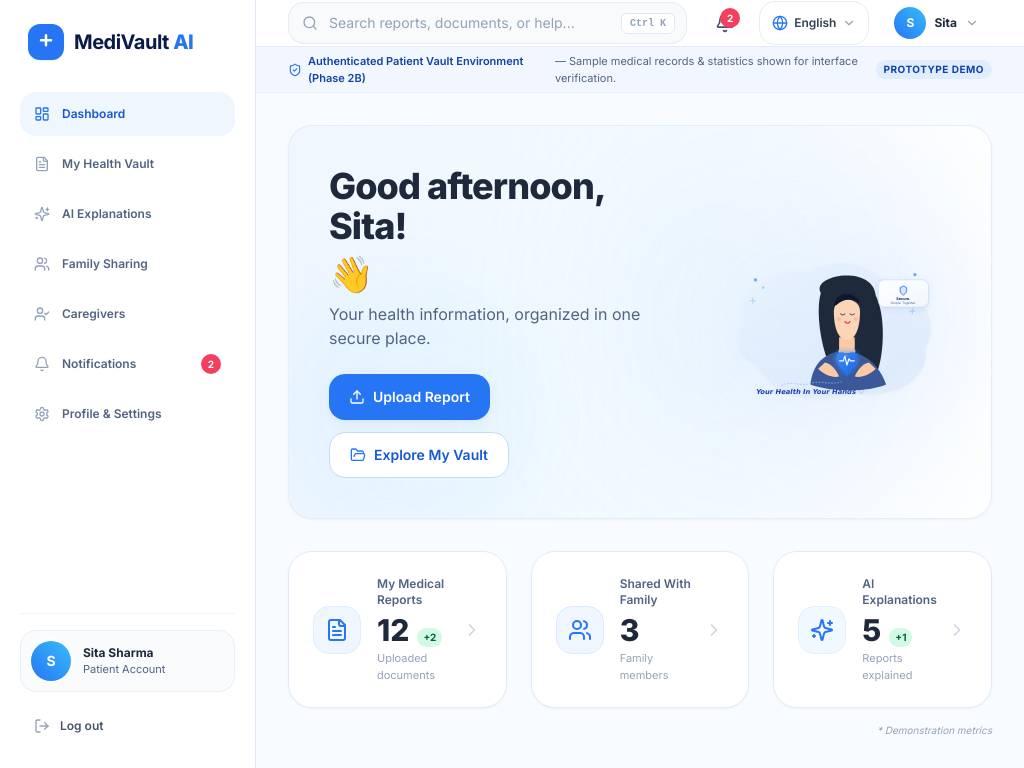
Test: MediVault AI — Phase 2B Patient Dashboard Frontend Suite › 7. opens and dismisses DemoUploadModal when clicking Upload Report
Click the button "Upload Report" at (409, 397), box 329,374 -> 490,420
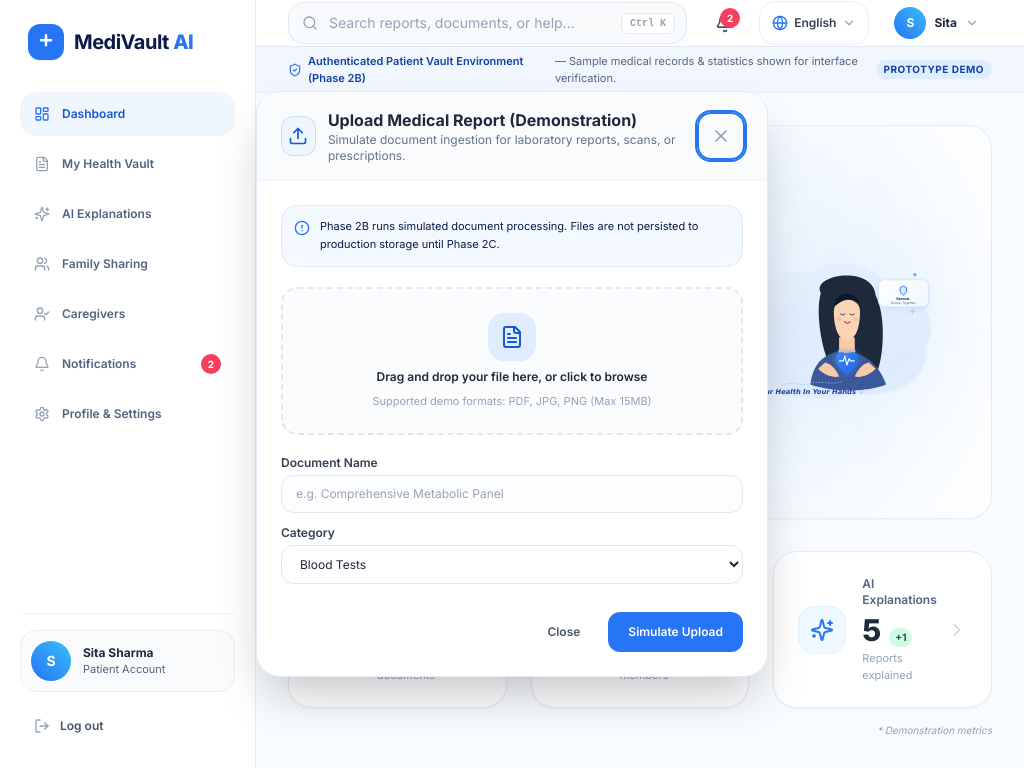
Check: the dialog is shown, box 256,91 -> 768,677
Check: the heading "Upload Medical Report (Demonstration)" is shown, box 328,110 -> 637,130
Click the button named "Close" at (721, 136), box 699,114 -> 743,158
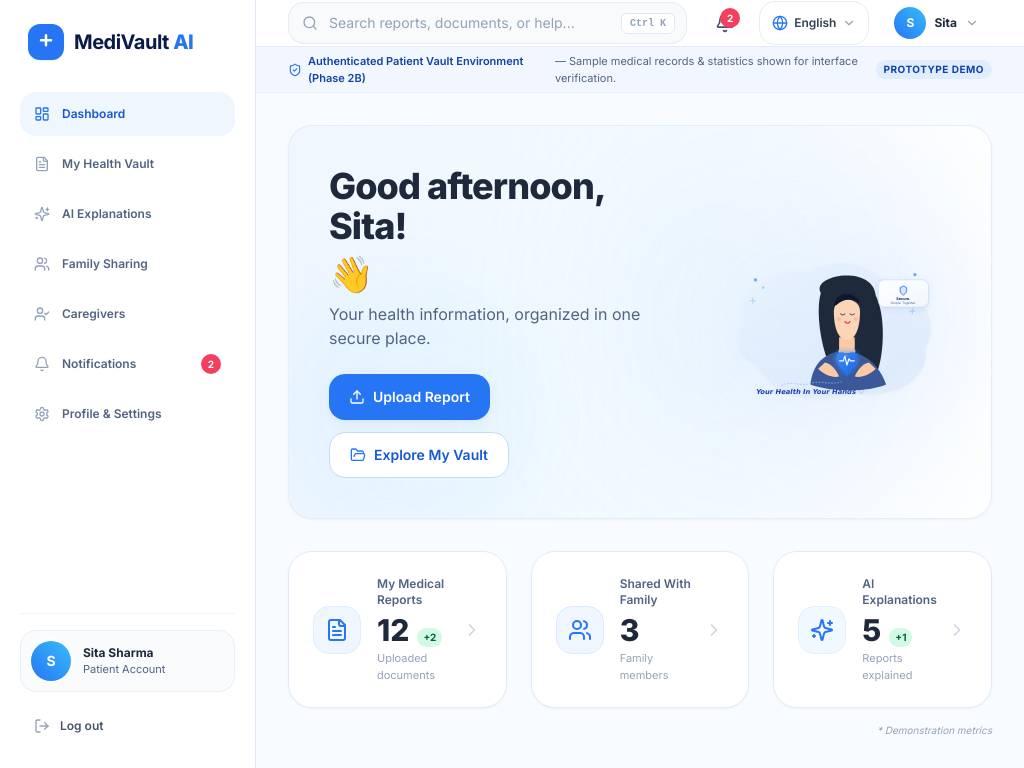
Check: the heading "Upload Medical Report (Demonstration)" is gone
